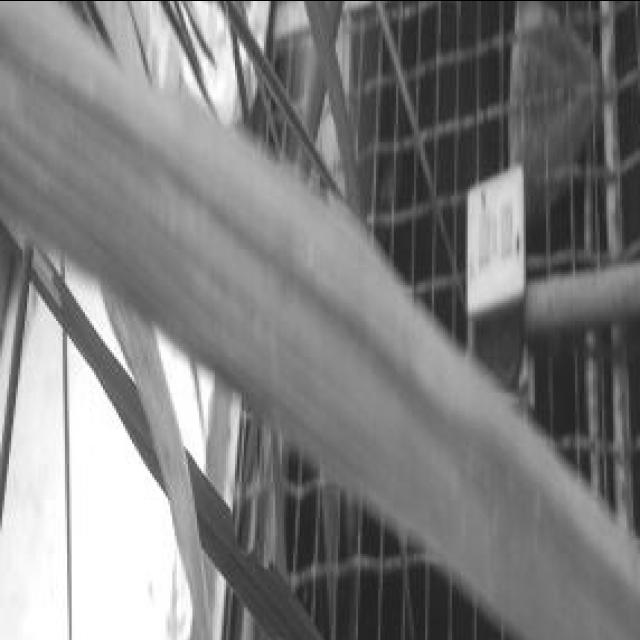Bacterial_Leaf_Blight: (1, 80, 327, 382)
